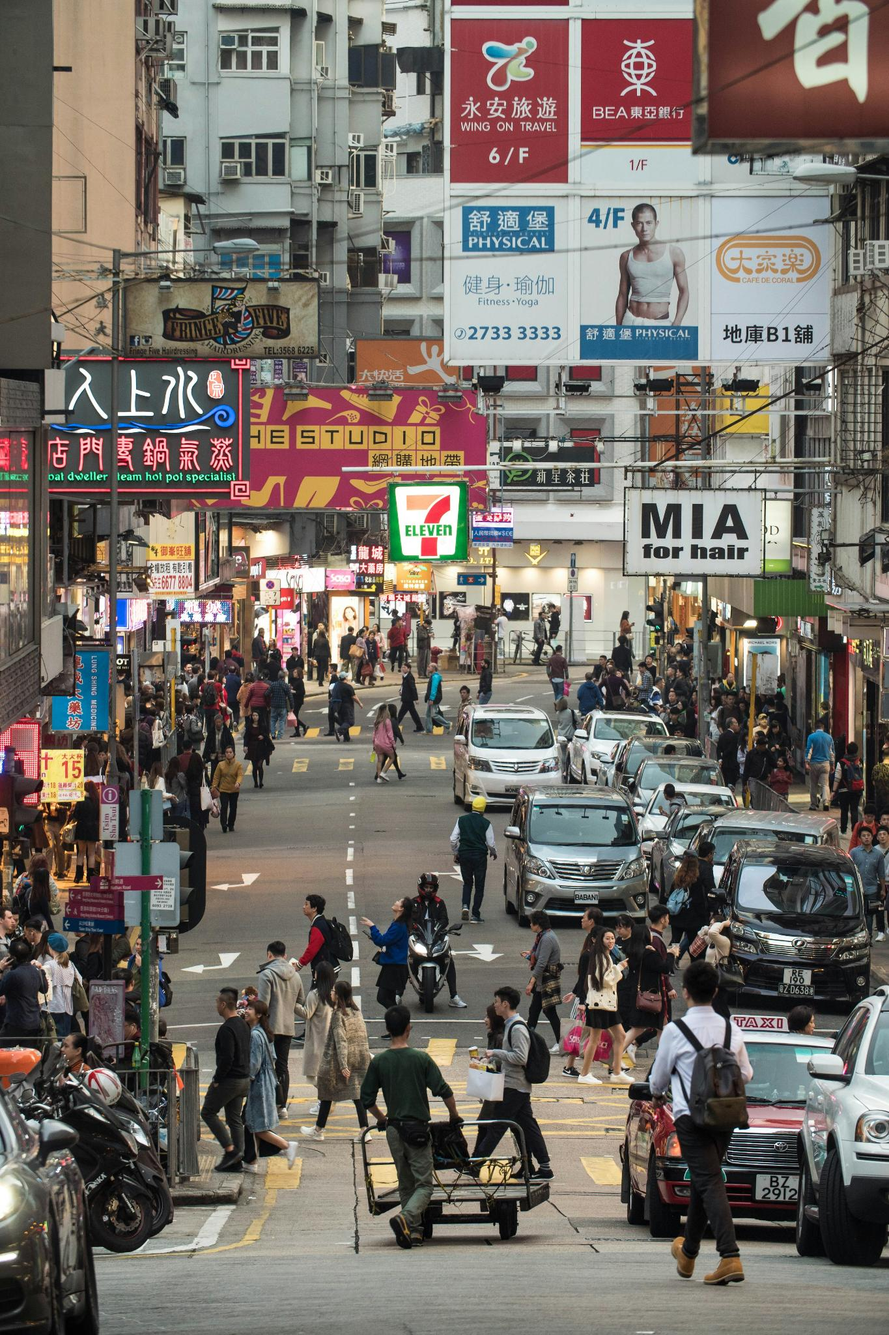car: (607, 1025, 834, 1232), (713, 830, 879, 1015), (0, 1023, 87, 1335), (815, 1002, 889, 1289), (507, 796, 661, 925), (448, 704, 562, 797)
pedestrian: (642, 953, 748, 1266), (353, 1001, 466, 1246), (475, 989, 553, 1191), (304, 977, 369, 1141), (201, 991, 255, 1182), (260, 940, 307, 1113), (584, 930, 634, 1090), (373, 884, 418, 1015), (0, 928, 46, 1049), (455, 793, 497, 921), (524, 916, 565, 1041), (46, 936, 94, 1042), (296, 889, 352, 976), (853, 820, 889, 941), (807, 715, 837, 812), (329, 662, 361, 743), (216, 744, 244, 836), (374, 706, 403, 783)
